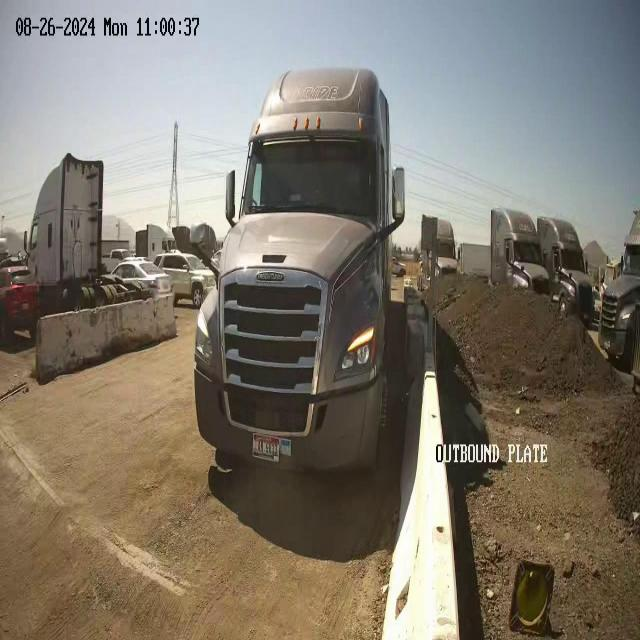TRUCK_OUT: (192, 66, 409, 480)
